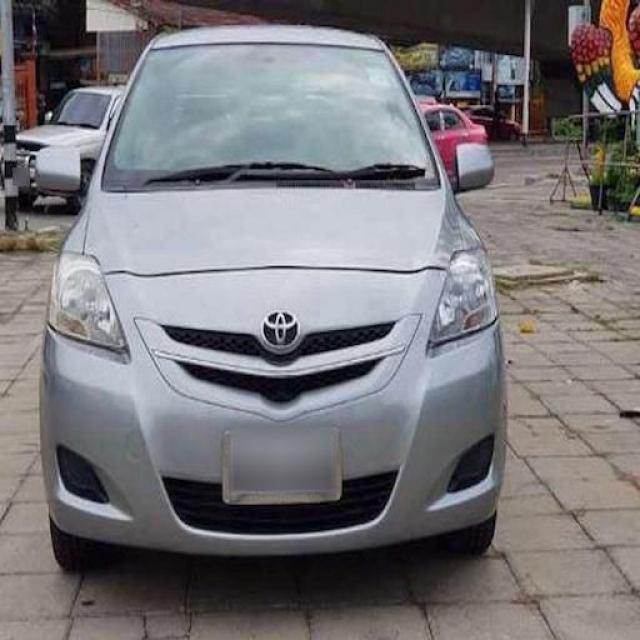front_bumper: (41, 268, 510, 555)
front_glass: (102, 43, 440, 192)
front_left_light: (426, 246, 499, 347)
front_right_light: (49, 251, 127, 348)
hood: (81, 188, 467, 276)
left_mirror: (448, 141, 499, 193)
right_mirror: (35, 146, 87, 197)
